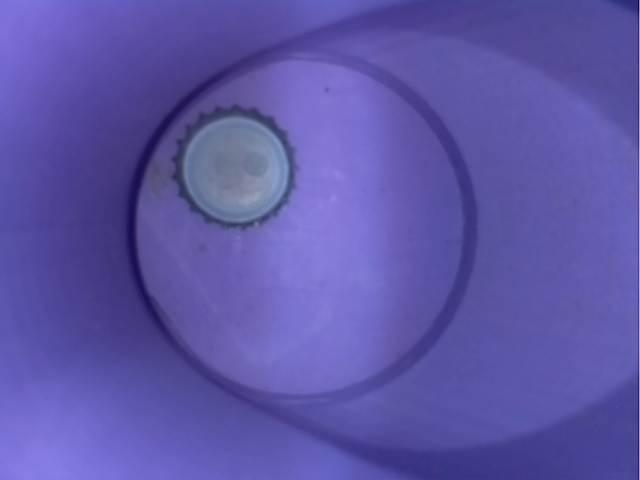capsule: (156, 101, 307, 227)
